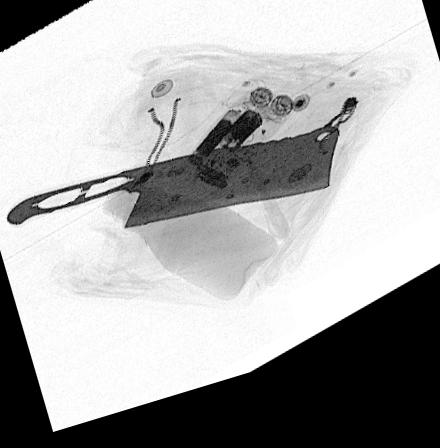Knife: (3, 144, 340, 237)
